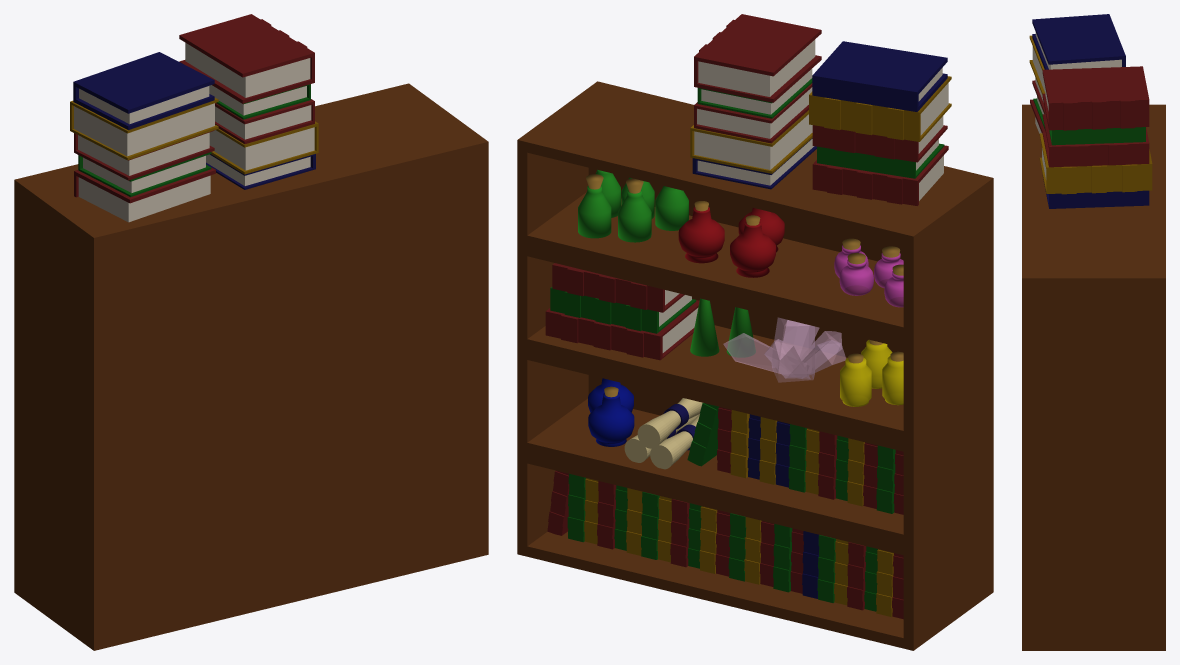
Rendered from plateleira1.fbx.
The picture shows the model from 3 angles, left to right: view 1: azimuth 30°, elevation 25°; view 2: azimuth 150°, elevation 25°; view 3: azimuth 270°, elevation 25°; orthographic projection. The views are drawn at different scales.
Parts seen in each view (by area): view 1: Шкаф, Стопка.002, Стопка.003; view 2: Шкаф, Стопка.002, Стопка.003, Кристалл, Книга.001, Книга.003, Книга.002, Круглая.004, Круглая.002, Круглая.005, Толстая, Толстая .005 (+50 smaller); view 3: Шкаф, Стопка.003, Стопка.002.
Part boxes in pixels (x1=…): Шкаф: x1=14, y1=83, x2=488, y2=650; Стопка.002: x1=70, y1=52, x2=218, y2=222; Стопка.003: x1=179, y1=14, x2=318, y2=189; Шкаф: x1=517, y1=81, x2=993, y2=650; Стопка.002: x1=809, y1=41, x2=951, y2=205; Стопка.003: x1=690, y1=14, x2=821, y2=189; Кристалл: x1=723, y1=317, x2=845, y2=382; Книга.001: x1=545, y1=300, x2=699, y2=360; Книга.003: x1=552, y1=263, x2=684, y2=312; Книга.002: x1=550, y1=287, x2=696, y2=333; Круглая.004: x1=730, y1=215, x2=775, y2=277; Круглая.002: x1=678, y1=201, x2=724, y2=263; Круглая.005: x1=588, y1=386, x2=634, y2=446; Толстая: x1=578, y1=174, x2=611, y2=238; Толстая .005: x1=618, y1=178, x2=651, y2=242; Шкаф: x1=1022, y1=104, x2=1165, y2=650; Стопка.003: x1=1039, y1=66, x2=1152, y2=208; Стопка.002: x1=1029, y1=14, x2=1125, y2=133.
Size of the model in its own units: 50.4 by 64.65 by 17.64.
